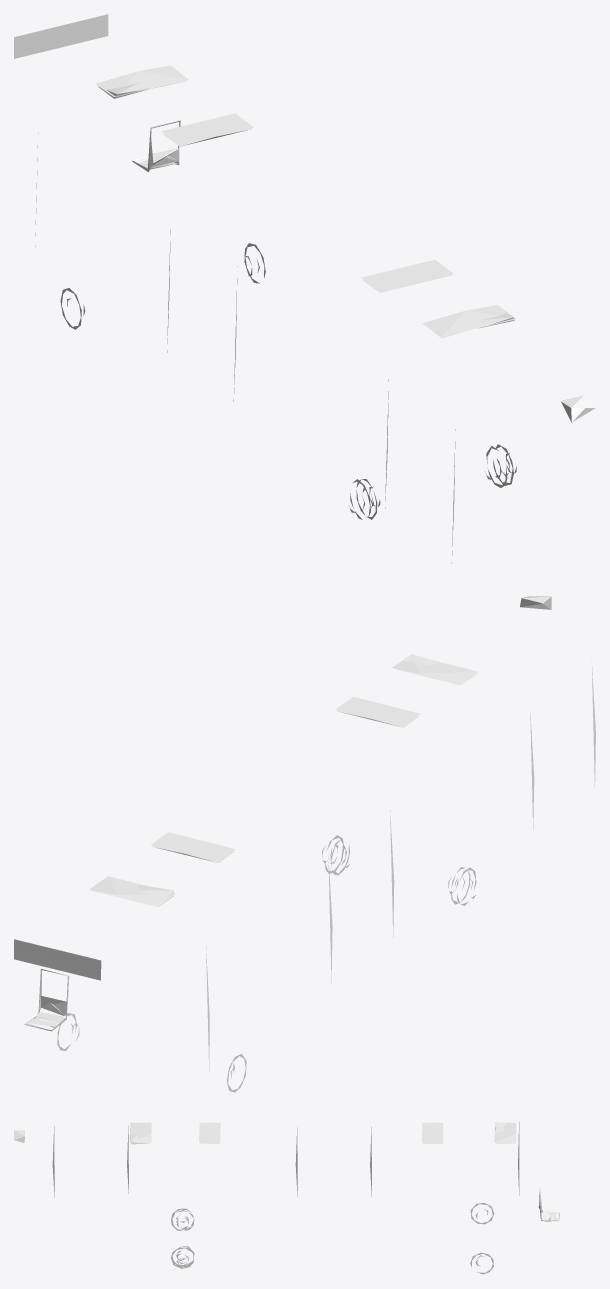
3 renders of one model, top to bottom at view 1: azimuth 30°, elevation 25°; view 2: azimuth 150°, elevation 25°; view 3: azimuth 270°, elevation 25°, orthographic. The views are drawn at different scales.
Bounding box in the file's own units: 2.3 × 2.49 × 11.11.
Materials: 1 (1 with a texture image).
